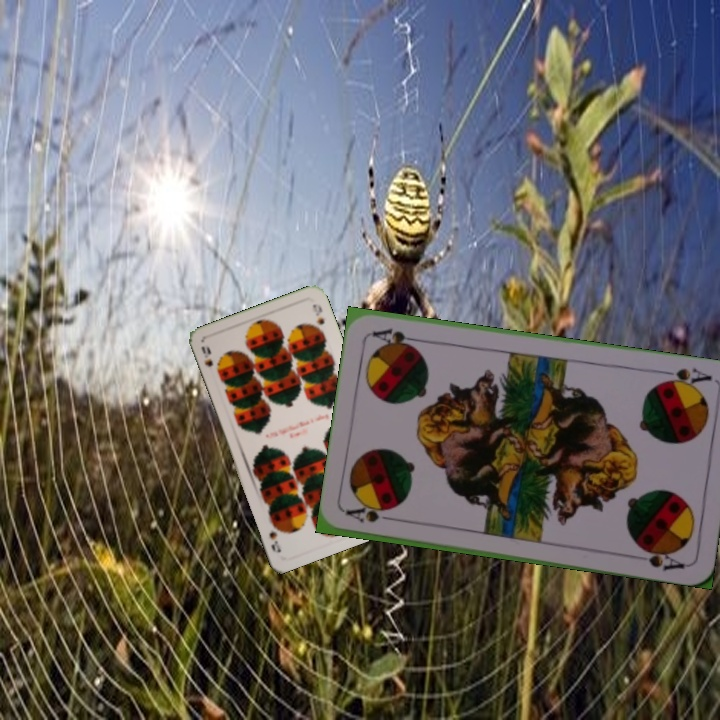S9: (197, 342, 215, 370)
SA: (655, 364, 715, 391), (343, 503, 402, 525)
